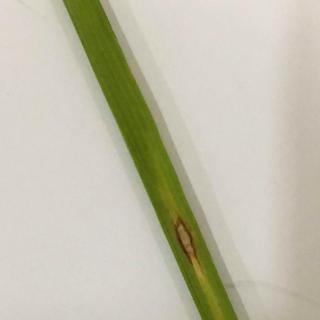Blast: (166, 194, 215, 292)
